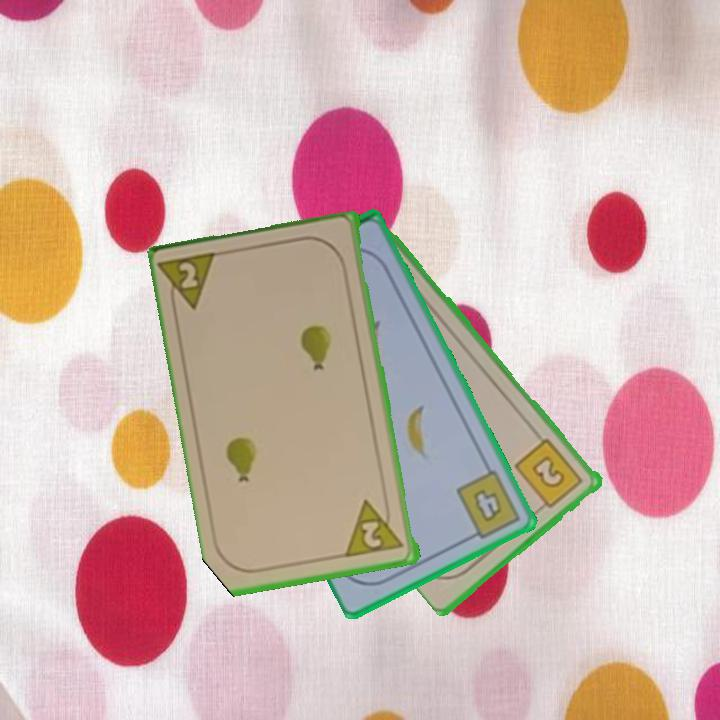2b: (511, 435, 587, 515)
2p: (158, 249, 223, 318), (344, 494, 407, 561)
4b: (453, 466, 524, 544)
